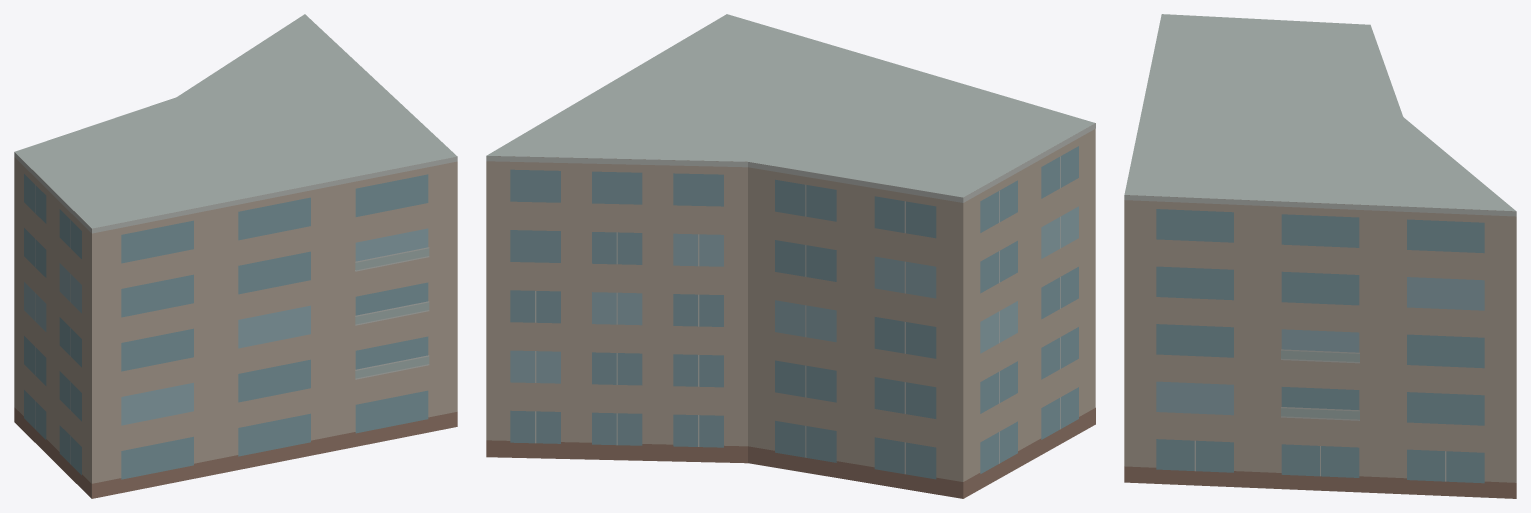
Rendered from survey-upis-32919778.glb.
3 renders of one model, left to right at view 1: azimuth 30°, elevation 25°; view 2: azimuth 150°, elevation 25°; view 3: azimuth 270°, elevation 25°, orthographic. The views are drawn at different scales.
Parts seen in each view (by area): view 1: survey-upis-32919778.tmp; view 2: survey-upis-32919778.tmp; view 3: survey-upis-32919778.tmp.
Boxes of the visible parts, x1,y1,x2,y2 form: survey-upis-32919778.tmp: (14,14,457,498); survey-upis-32919778.tmp: (486,14,1095,498); survey-upis-32919778.tmp: (1124,14,1516,498).
Bounding box in the file's own units: 19.72 × 13.4 × 16.57.
